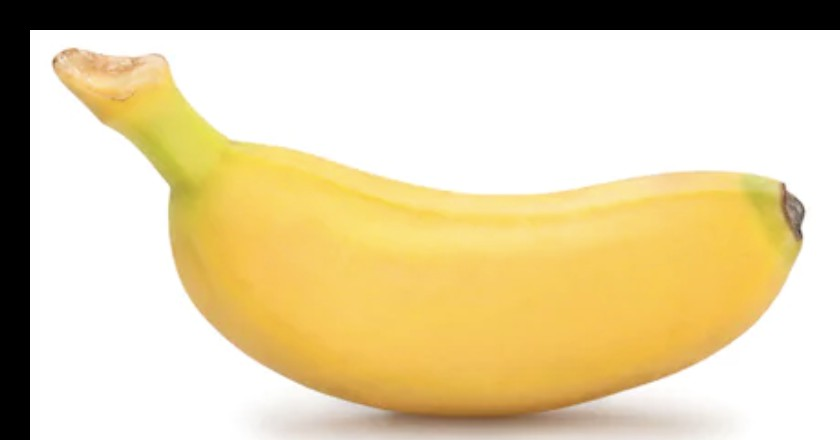fresh_banana: (53, 46, 807, 413)
